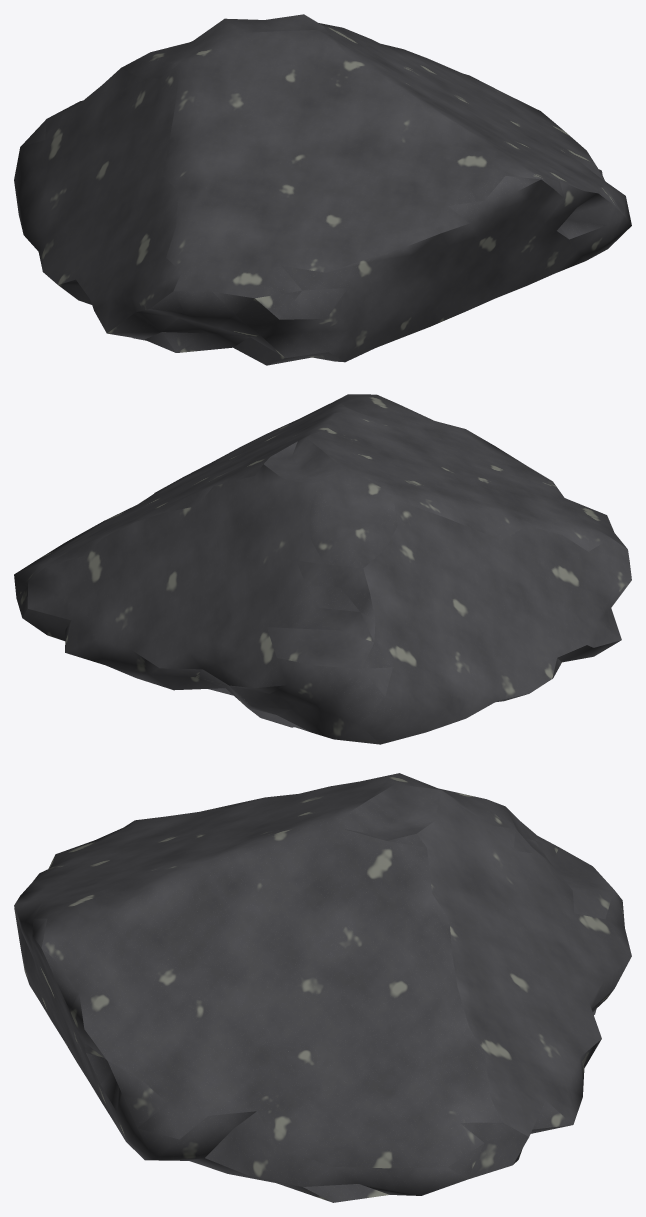
Rendered from SM_Rock_C.fbx.
3 renders of one model, top to bottom at view 1: azimuth 30°, elevation 25°; view 2: azimuth 150°, elevation 25°; view 3: azimuth 270°, elevation 25°, orthographic. The views are drawn at different scales.
Visible parts, largest first — view 1: SM_Rock_C; view 2: SM_Rock_C; view 3: SM_Rock_C.
Boxes of the visible parts, x1,y1,x2,y2 form: SM_Rock_C: (14, 14, 631, 365); SM_Rock_C: (14, 394, 631, 744); SM_Rock_C: (14, 773, 631, 1202).
Size of what is drawn, in the model's own units: 207 by 245 by 86.58.
